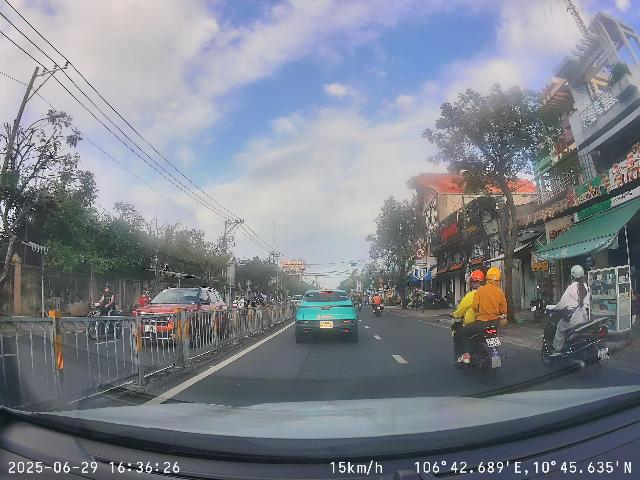124b-cam-oto-quay-dau-xe: (415, 248, 426, 258)
